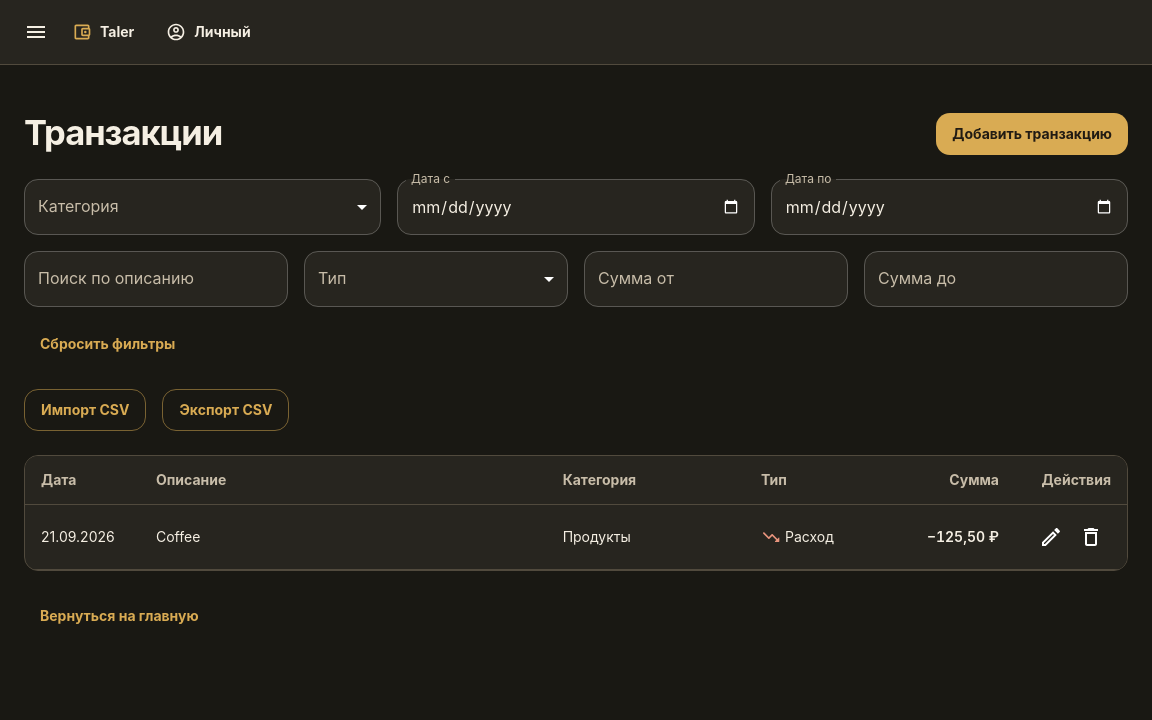
Scenario: TransactionsPage › deletes a transaction only after confirmation
This screenshot has width=1152, height=720.
Expected: the table named "Транзакции" is shown, x1=25 y1=456 x2=1127 y2=570
Click the button named "Удалить транзакцию Coffee": [1091, 537] box x1=1071 y1=517 x2=1111 y2=557
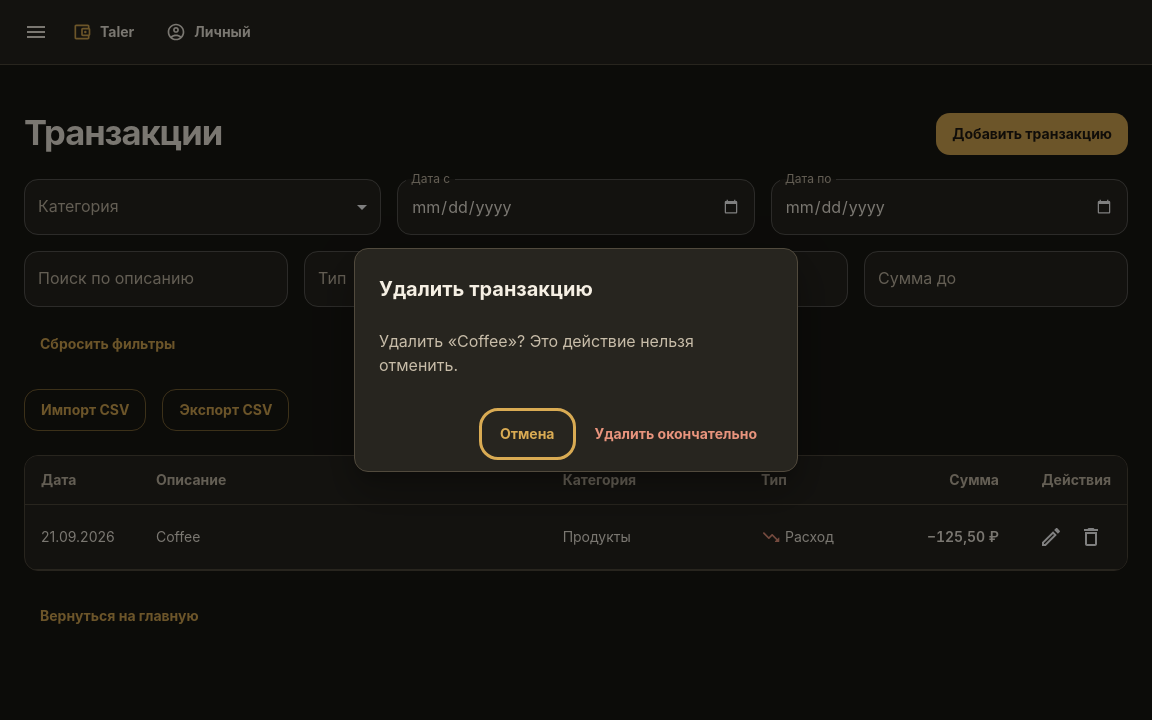
Expected: the dialog "Удалить транзакцию" is shown, x1=354 y1=248 x2=798 y2=472
Click the button "Отмена": [527, 434] box x1=484 y1=413 x2=570 y2=455
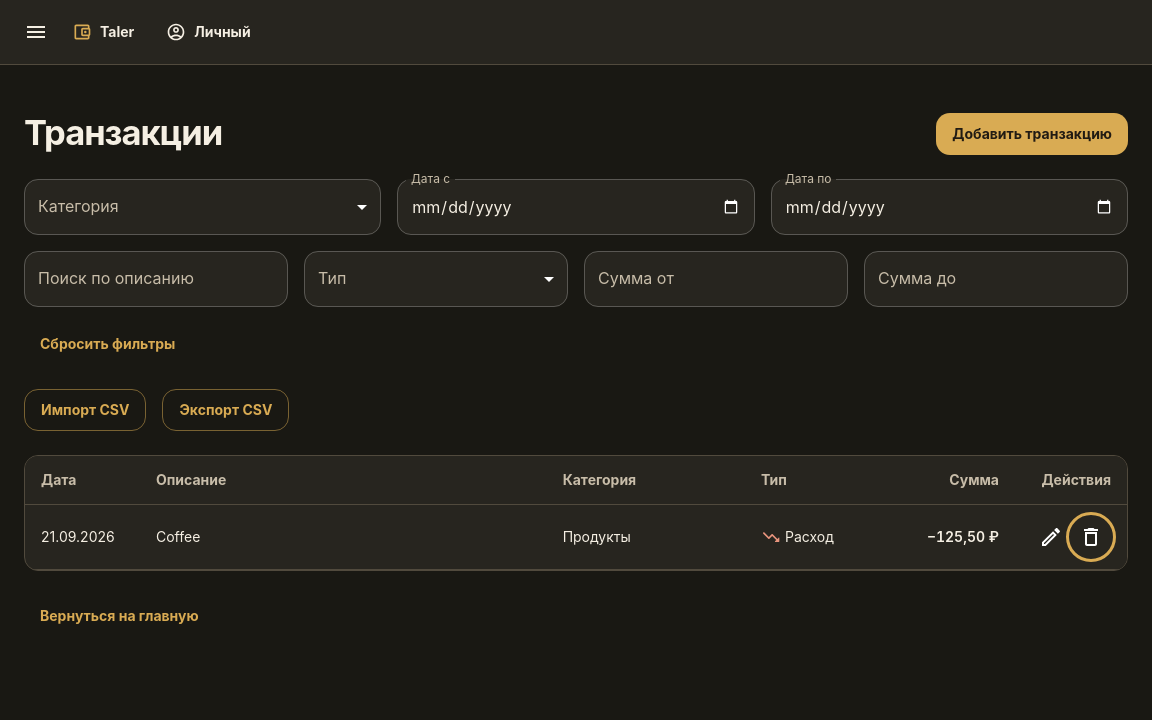
Click the button named "Удалить транзакцию Coffee": [1091, 537] box x1=1071 y1=517 x2=1111 y2=557
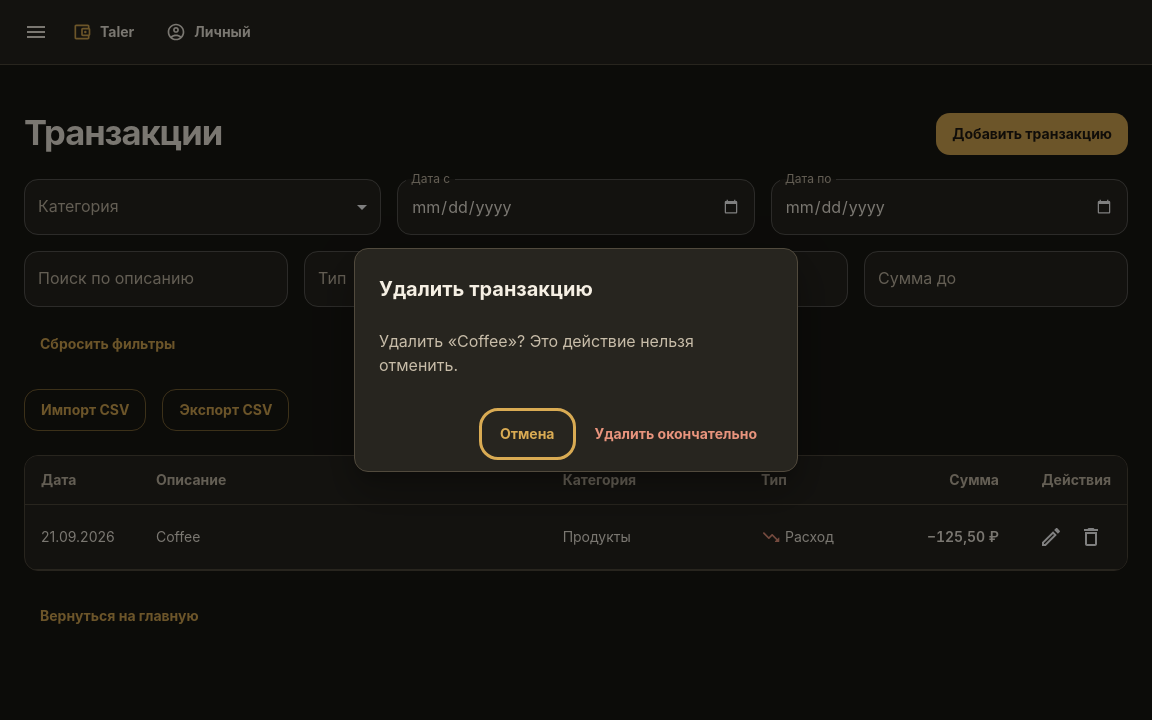
Click the button "Удалить окончательно": [676, 434] box x1=578 y1=413 x2=773 y2=455
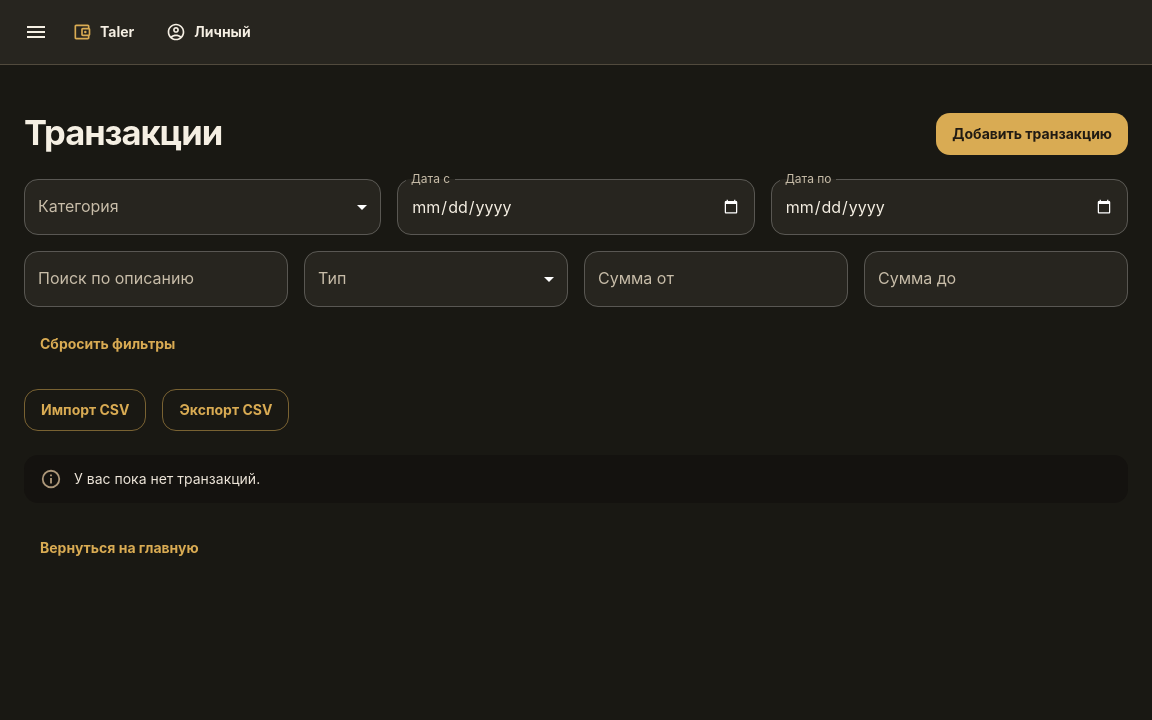
Expected: the text "У вас пока нет транзакций." is shown, x1=74 y1=470 x2=260 y2=487
